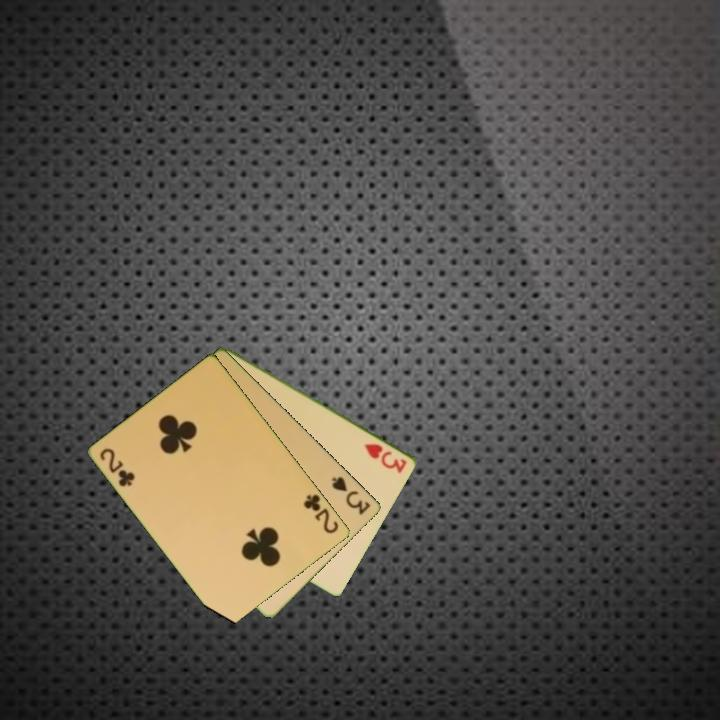2c: (300, 491, 342, 537), (97, 445, 138, 490)
3h: (361, 440, 410, 476)
3s: (328, 473, 374, 518)
